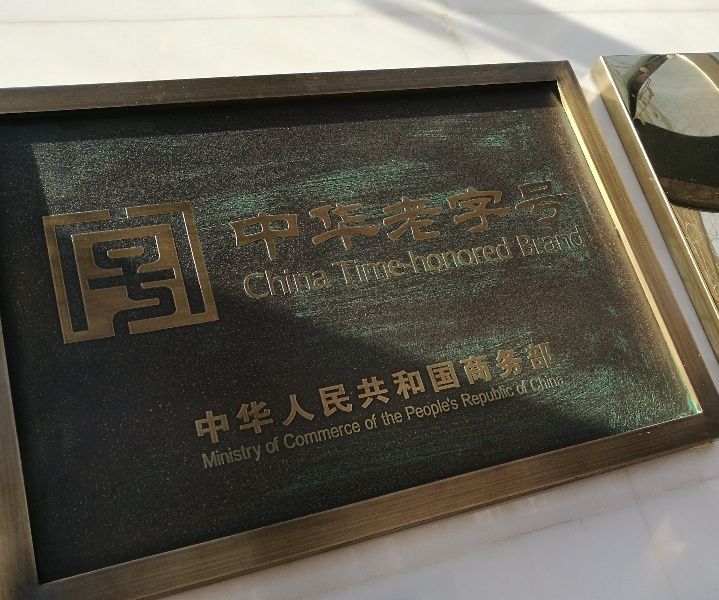text: (193, 339, 208, 448), (209, 339, 224, 448), (225, 339, 240, 448), (241, 339, 256, 448), (257, 339, 272, 448), (273, 339, 288, 448), (289, 339, 304, 448), (305, 339, 320, 448), (321, 339, 336, 448), (337, 339, 352, 448), (353, 339, 368, 448), (369, 339, 384, 448), (385, 339, 400, 448), (401, 339, 416, 448), (417, 339, 432, 448), (433, 339, 448, 448), (449, 339, 464, 448), (465, 339, 480, 448), (481, 339, 496, 448), (497, 339, 512, 448), (513, 339, 528, 448), (529, 339, 544, 448), (81, 230, 96, 338), (97, 230, 112, 338), (113, 230, 128, 338), (129, 230, 144, 338), (145, 230, 160, 338), (161, 230, 176, 338), (177, 230, 191, 338), (545, 339, 558, 448), (241, 177, 256, 267), (257, 177, 272, 267), (273, 177, 288, 267), (289, 177, 304, 267), (305, 177, 320, 267), (321, 177, 336, 267), (337, 177, 352, 267), (353, 177, 368, 267), (369, 177, 384, 267), (385, 177, 400, 267), (401, 177, 416, 267), (417, 177, 432, 267), (433, 177, 448, 267), (449, 177, 464, 267), (465, 177, 480, 267), (481, 177, 496, 267), (497, 177, 512, 267), (513, 177, 528, 267), (529, 177, 544, 267), (545, 177, 560, 267), (561, 177, 576, 267), (229, 177, 240, 267), (337, 237, 352, 287), (353, 237, 368, 287), (369, 237, 384, 287), (385, 237, 400, 287), (401, 237, 416, 287), (417, 237, 432, 287), (433, 237, 448, 287), (449, 237, 464, 287), (465, 237, 480, 287), (481, 237, 496, 287), (497, 237, 512, 287), (257, 262, 272, 301), (273, 262, 288, 301), (289, 262, 304, 301), (305, 262, 320, 301), (209, 439, 224, 475), (225, 439, 240, 475), (241, 439, 256, 475), (529, 224, 544, 259), (545, 224, 560, 259), (561, 224, 576, 259), (289, 416, 304, 451), (305, 416, 320, 451), (321, 416, 336, 451), (337, 416, 352, 451), (243, 262, 256, 301), (321, 262, 334, 301), (577, 224, 590, 259), (465, 382, 480, 412), (481, 382, 496, 412), (497, 382, 512, 412), (516, 224, 528, 259), (417, 396, 432, 424), (433, 396, 448, 424), (545, 370, 560, 394), (353, 416, 363, 451), (449, 396, 461, 424), (530, 370, 544, 394), (385, 407, 400, 428), (257, 439, 265, 475), (406, 396, 416, 424), (577, 177, 580, 267), (202, 439, 208, 475), (282, 416, 288, 451), (516, 379, 528, 396), (332, 237, 336, 287), (273, 436, 283, 456), (369, 414, 380, 431), (264, 436, 272, 456), (513, 237, 516, 287), (561, 370, 567, 394), (460, 382, 464, 412), (191, 339, 192, 448), (513, 382, 516, 412), (380, 407, 384, 428), (401, 407, 405, 428), (364, 414, 368, 431), (529, 379, 531, 396)
